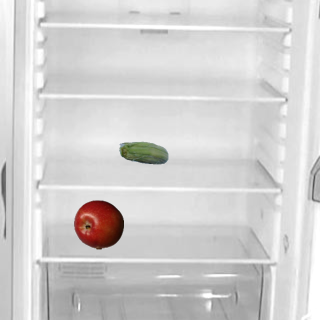Apple Braeburn: (73, 199, 123, 249)
Corn Husk: (118, 129, 168, 179)
